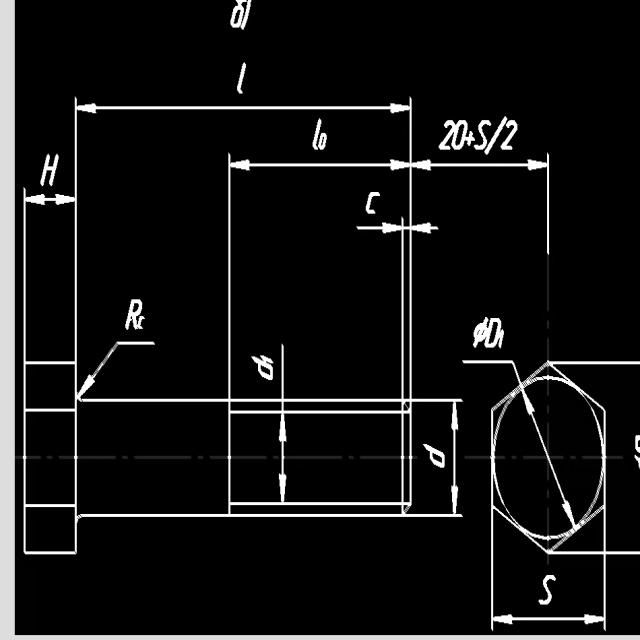marking_line: (80, 94, 464, 396), (223, 151, 406, 398), (407, 152, 501, 399), (405, 156, 552, 260), (23, 187, 79, 359), (486, 560, 608, 633), (522, 391, 576, 526), (413, 394, 464, 519), (81, 337, 159, 400), (273, 418, 287, 501), (357, 221, 400, 238), (413, 219, 439, 236)
numeric: (537, 568, 558, 608), (502, 117, 521, 153), (421, 442, 446, 469), (452, 118, 469, 152), (439, 120, 455, 150), (496, 327, 504, 349)
special_symbol: (469, 315, 487, 351), (466, 129, 474, 148)
